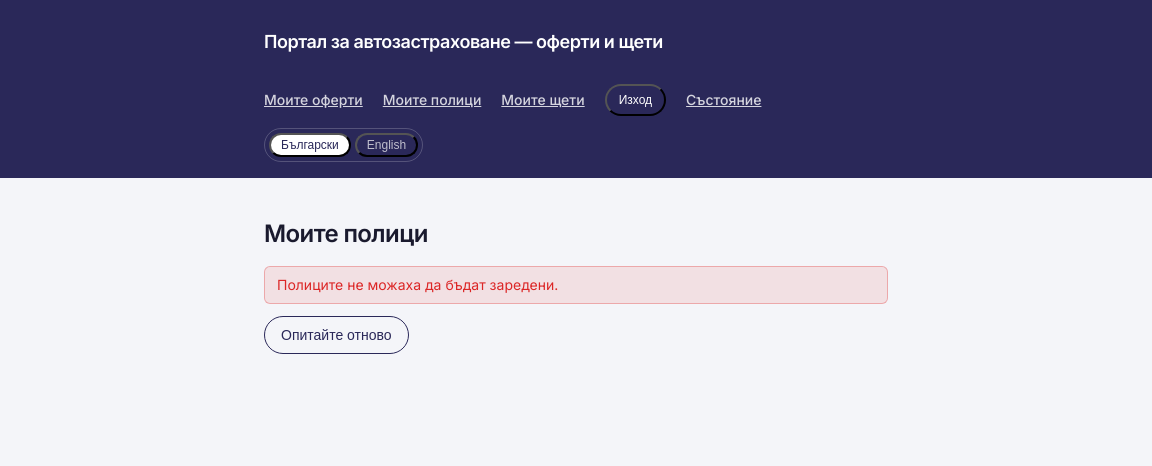
Test: MyPolicies › shows the error state and a working retry on a failed load
Expected: the message "Полиците не можаха да бъдат заредени." is shown, [264,266,888,304]
Click the button "Опитайте отново" at [336, 335], box [264,316,409,354]
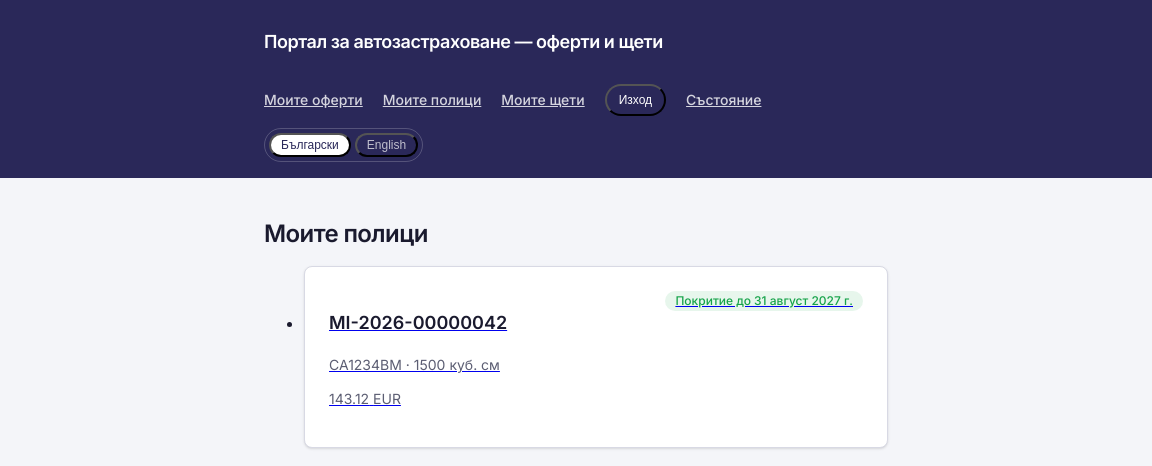
Expected: the link with test id "policy-row" is shown, [304,266,888,448]
